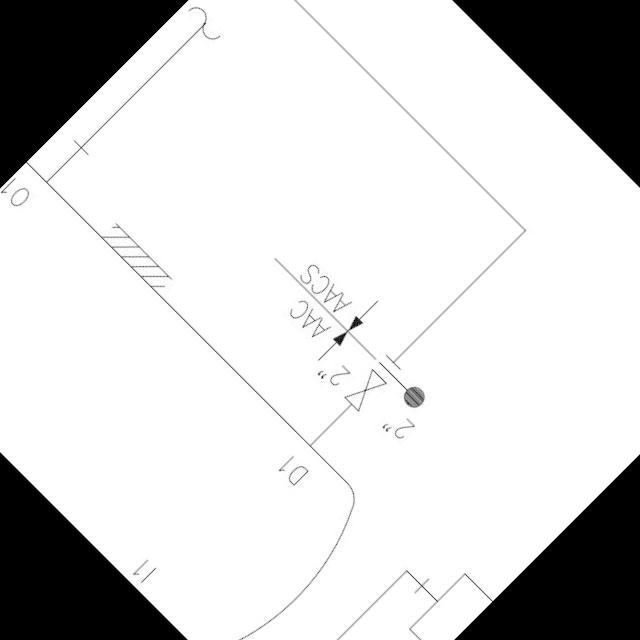GV: (340, 364, 393, 418)
